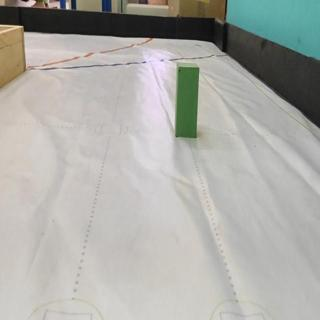greenbox: (175, 64, 198, 138)
